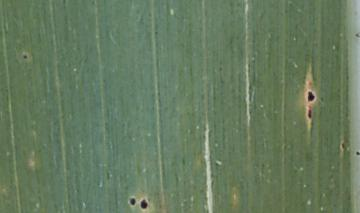tarspot: (303, 90, 317, 104), (138, 198, 150, 211), (127, 194, 137, 208), (305, 107, 314, 119), (21, 51, 29, 63), (353, 148, 360, 158)
